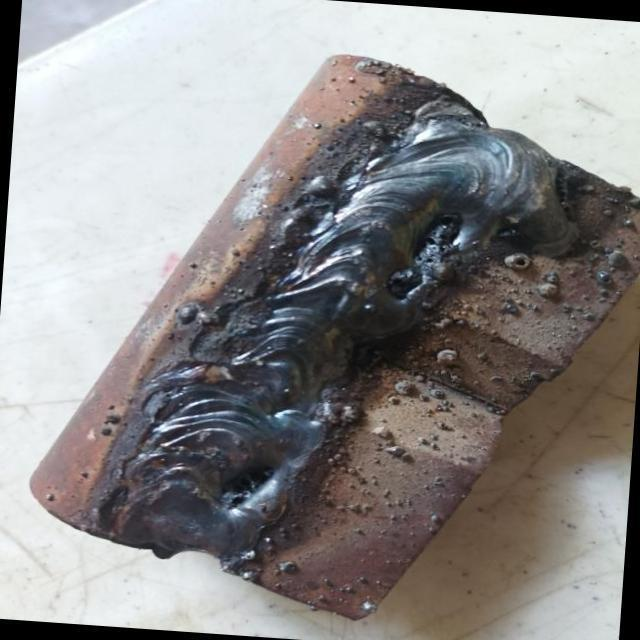defect: (385, 210, 463, 297), (214, 462, 284, 512)
